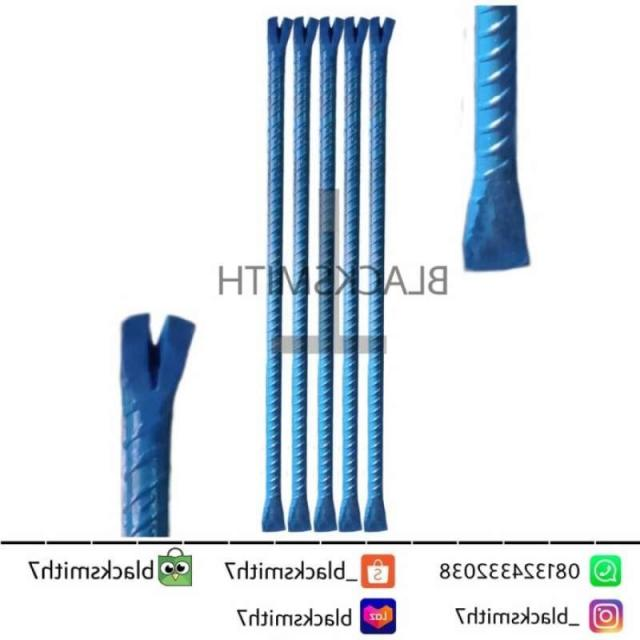Linggis: (363, 18, 399, 536)
